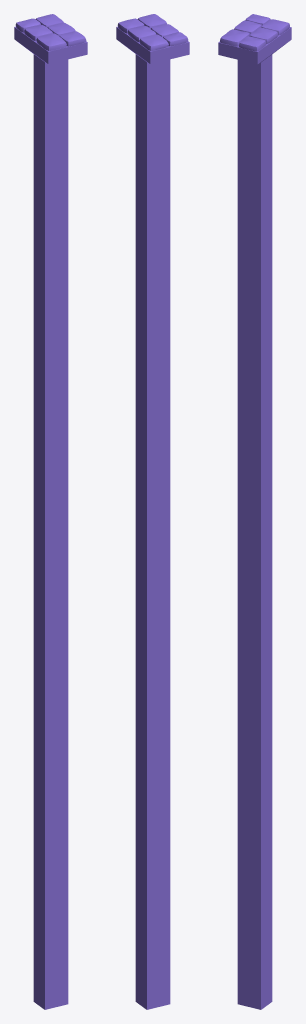
File: Bridge.fbx
3 renders of one model, left to right at view 1: azimuth 30°, elevation 25°; view 2: azimuth 210°, elevation 25°; view 3: azimuth 330°, elevation 25°, orthographic.
Visible parts, largest first — view 1: Cube.086; view 2: Cube.086; view 3: Cube.086.
Part boxes in pixels (x1=…): Cube.086: x1=14, y1=14, x2=87, y2=1009; Cube.086: x1=116, y1=14, x2=189, y2=1009; Cube.086: x1=218, y1=14, x2=291, y2=1009.
Size of the model in its own units: 200 by 4726 by 300.
